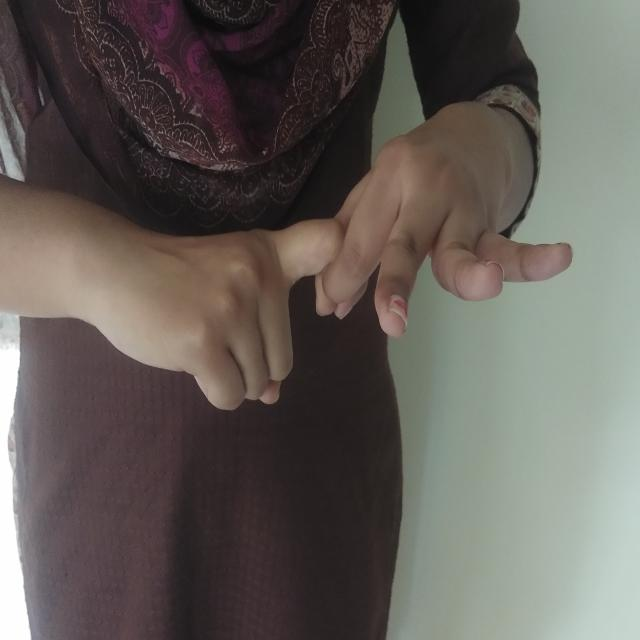Q: (124, 84, 579, 432)
